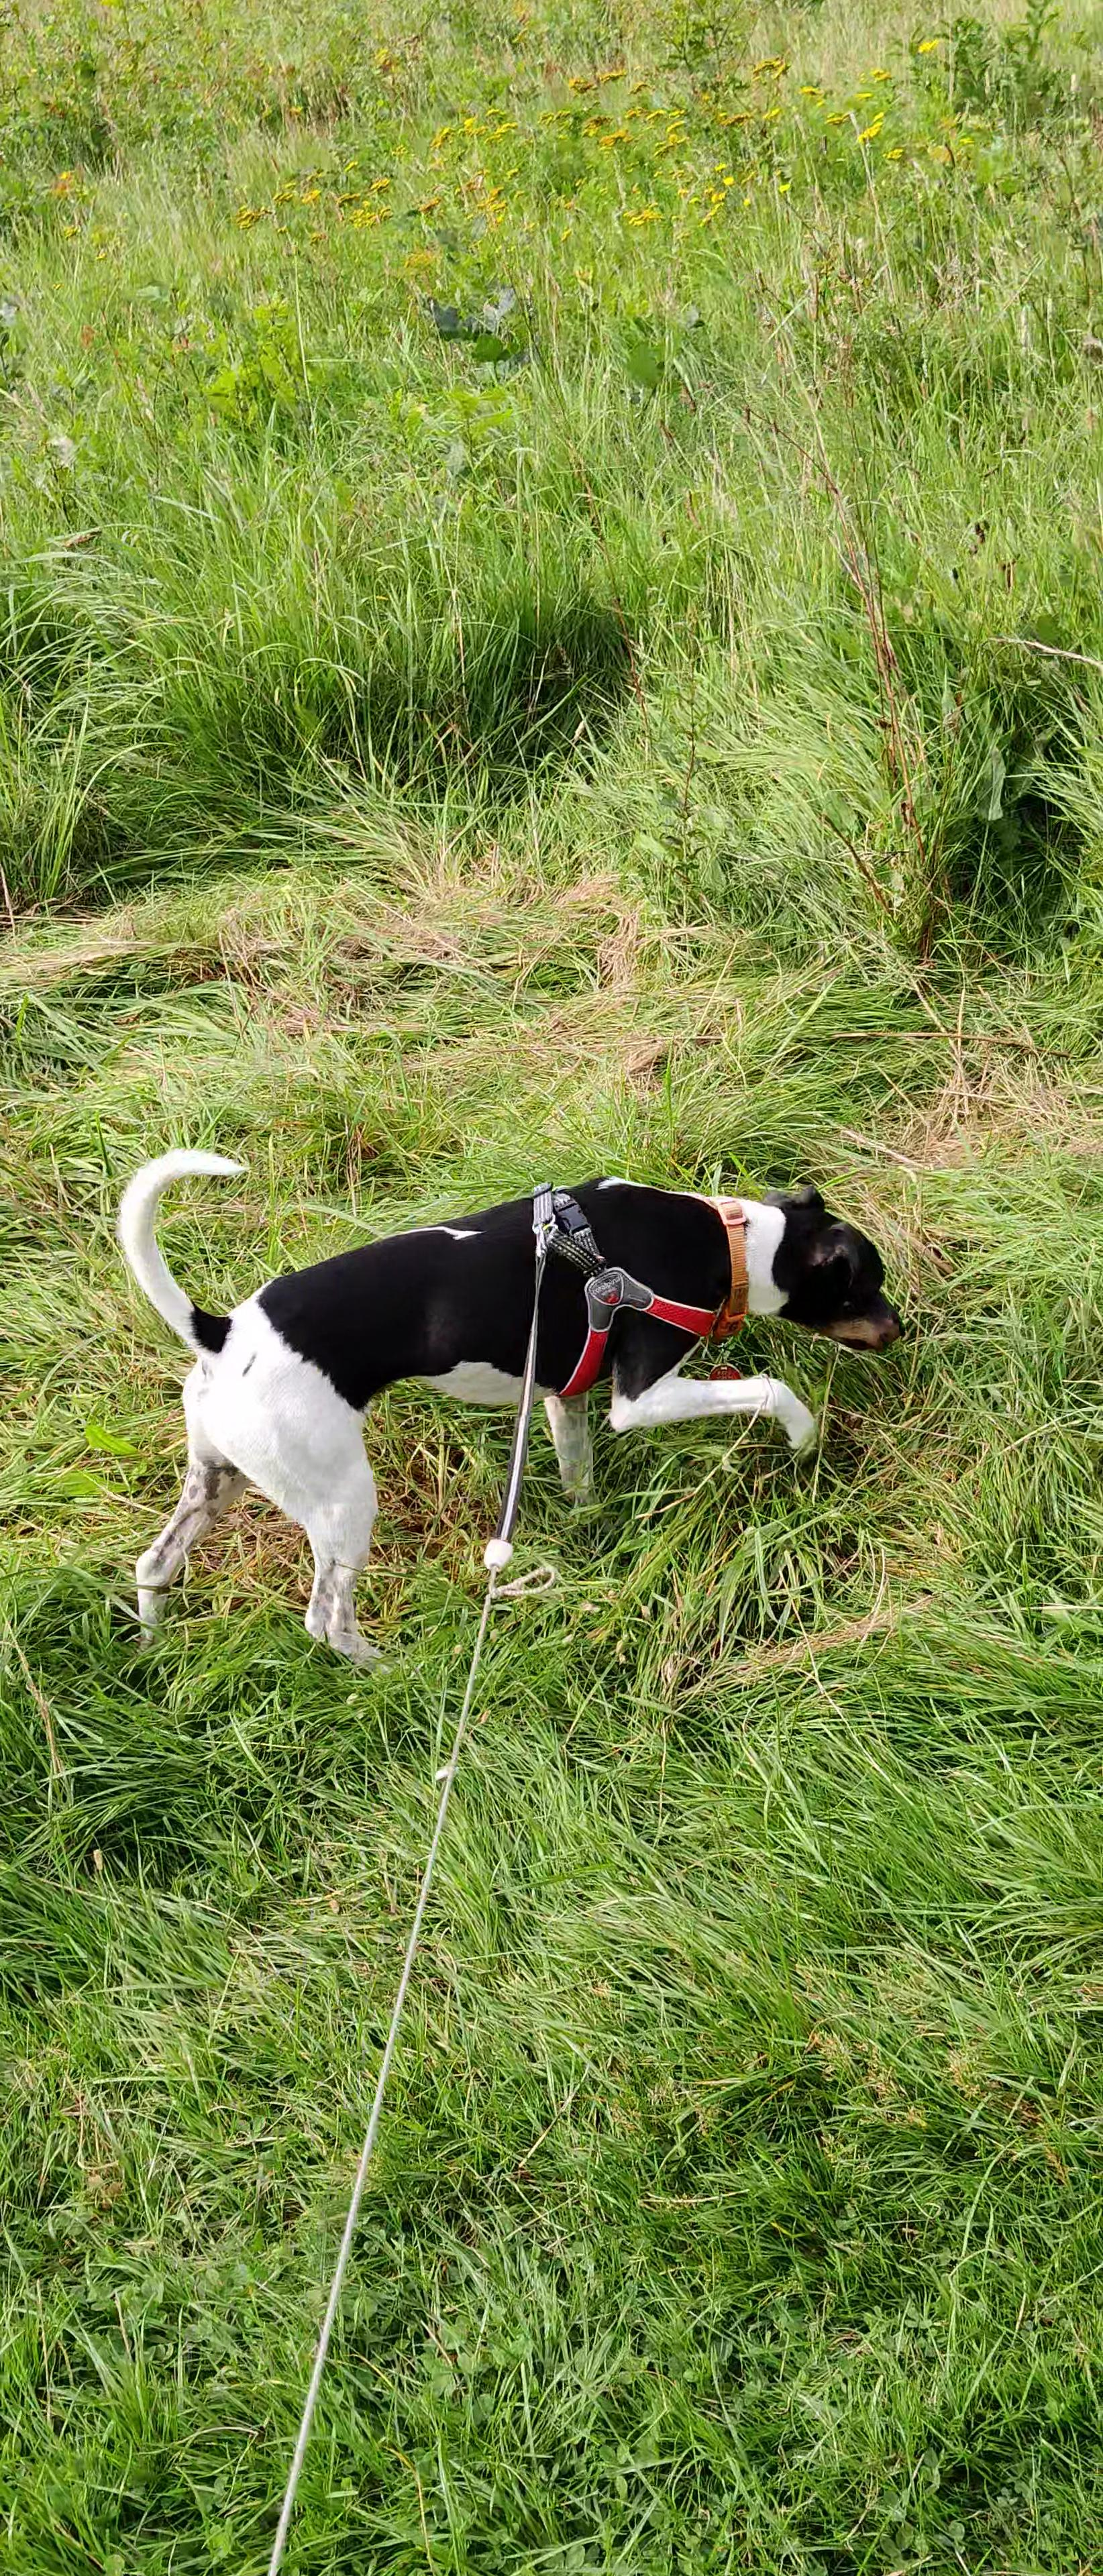Dog: (107, 1135, 911, 1679)
